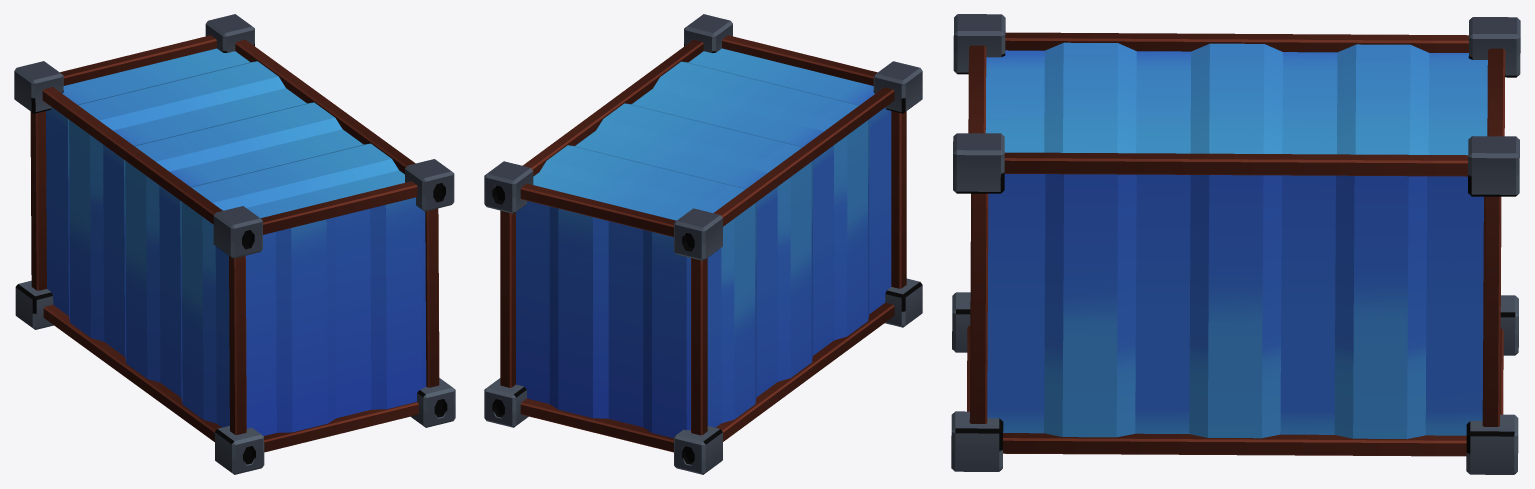
The model's file is bluebox.fbx.
The picture shows the model from 3 angles, left to right: view 1: azimuth 30°, elevation 25°; view 2: azimuth 150°, elevation 25°; view 3: azimuth 270°, elevation 25°; orthographic projection. The views are drawn at different scales.
Parts seen in each view (by area): view 1: bluebox; view 2: bluebox; view 3: bluebox.
Part boxes in pixels (<box>): bluebox: <box>14,14,455,474</box>; bluebox: <box>484,14,922,474</box>; bluebox: <box>951,14,1520,474</box>.
Bounding box in the file's own units: 294 × 315 × 501.
1 material, 1 textured.
